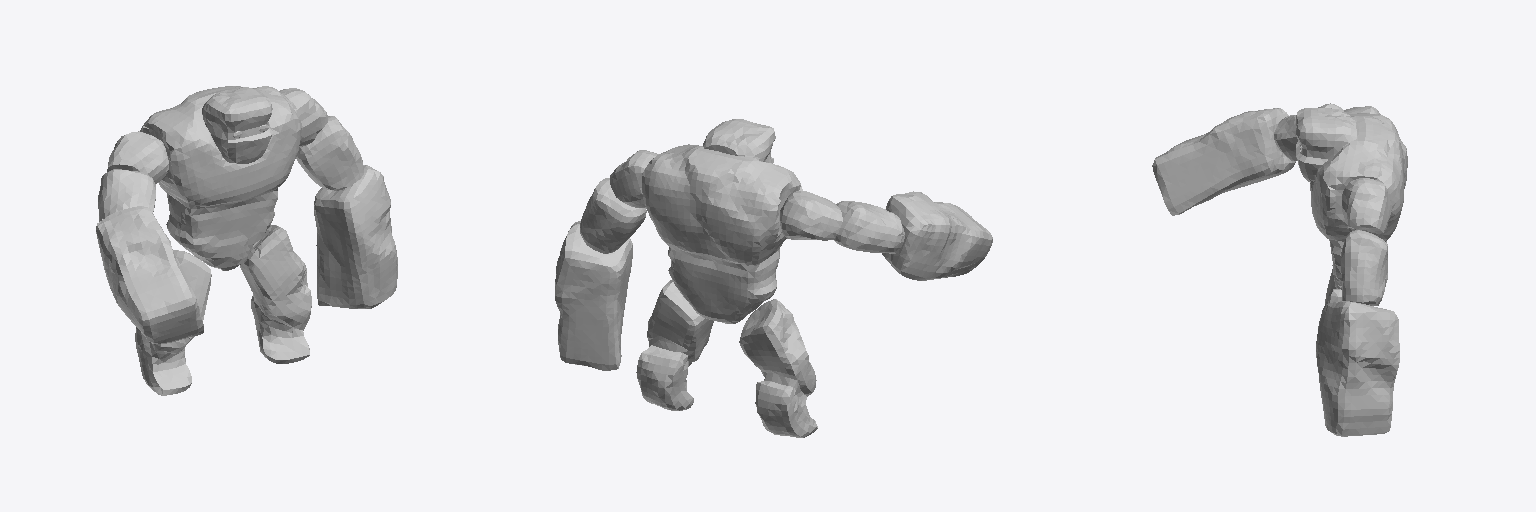
The model's file is ogro.obj.
The picture shows the model from 3 angles: view 1: azimuth 30°, elevation 25°; view 2: azimuth 150°, elevation 25°; view 3: azimuth 270°, elevation 25°; orthographic projection.
Parts seen in each view (by area): view 1: Esfera.001_Esfera.001; view 2: Esfera.001_Esfera.001; view 3: Esfera.001_Esfera.001.
Part boxes in pixels (left/top/right/bottom): Esfera.001_Esfera.001: left=96, top=86, right=397, bottom=395; Esfera.001_Esfera.001: left=555, top=119, right=992, bottom=437; Esfera.001_Esfera.001: left=1152, top=103, right=1407, bottom=436.
Size of the model in its own units: 12.05 by 9.57 by 7.76.